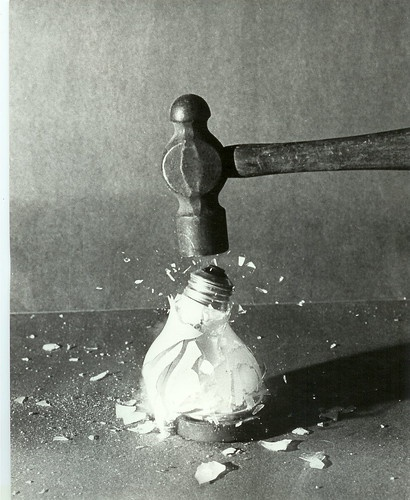hammer: (162, 90, 409, 260)
